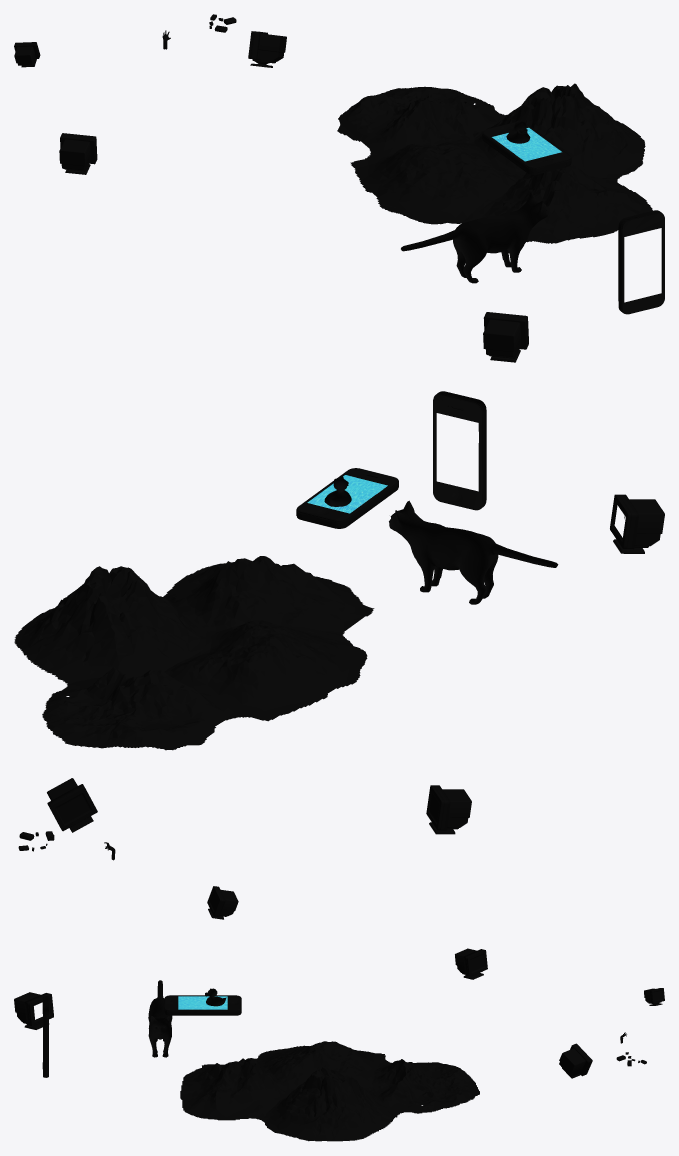
Rendered from meshNegro.glb.
3 views of the same model, one above another, from view 1: azimuth 30°, elevation 25°; view 2: azimuth 150°, elevation 25°; view 3: azimuth 270°, elevation 25° (orthographic). The views are drawn at different scales.
Visible parts, largest first — view 1: mesh_2_negro:Mesh, pantalla_celular_pool_agua; view 2: mesh_2_negro:Mesh, pantalla_celular_pool_agua; view 3: mesh_2_negro:Mesh, pantalla_celular_pool_agua.
Part boxes in pixels (bbox=[...]): mesh_2_negro:Mesh: bbox=[14, 14, 664, 362]; pantalla_celular_pool_agua: bbox=[492, 127, 561, 161]; mesh_2_negro:Mesh: bbox=[14, 391, 664, 919]; pantalla_celular_pool_agua: bbox=[307, 475, 387, 513]; mesh_2_negro:Mesh: bbox=[14, 948, 664, 1141]; pantalla_celular_pool_agua: bbox=[178, 996, 227, 1009].
Size of the model in its own units: 6.09 by 1.51 by 9.71.
2 materials, 2 textured.
